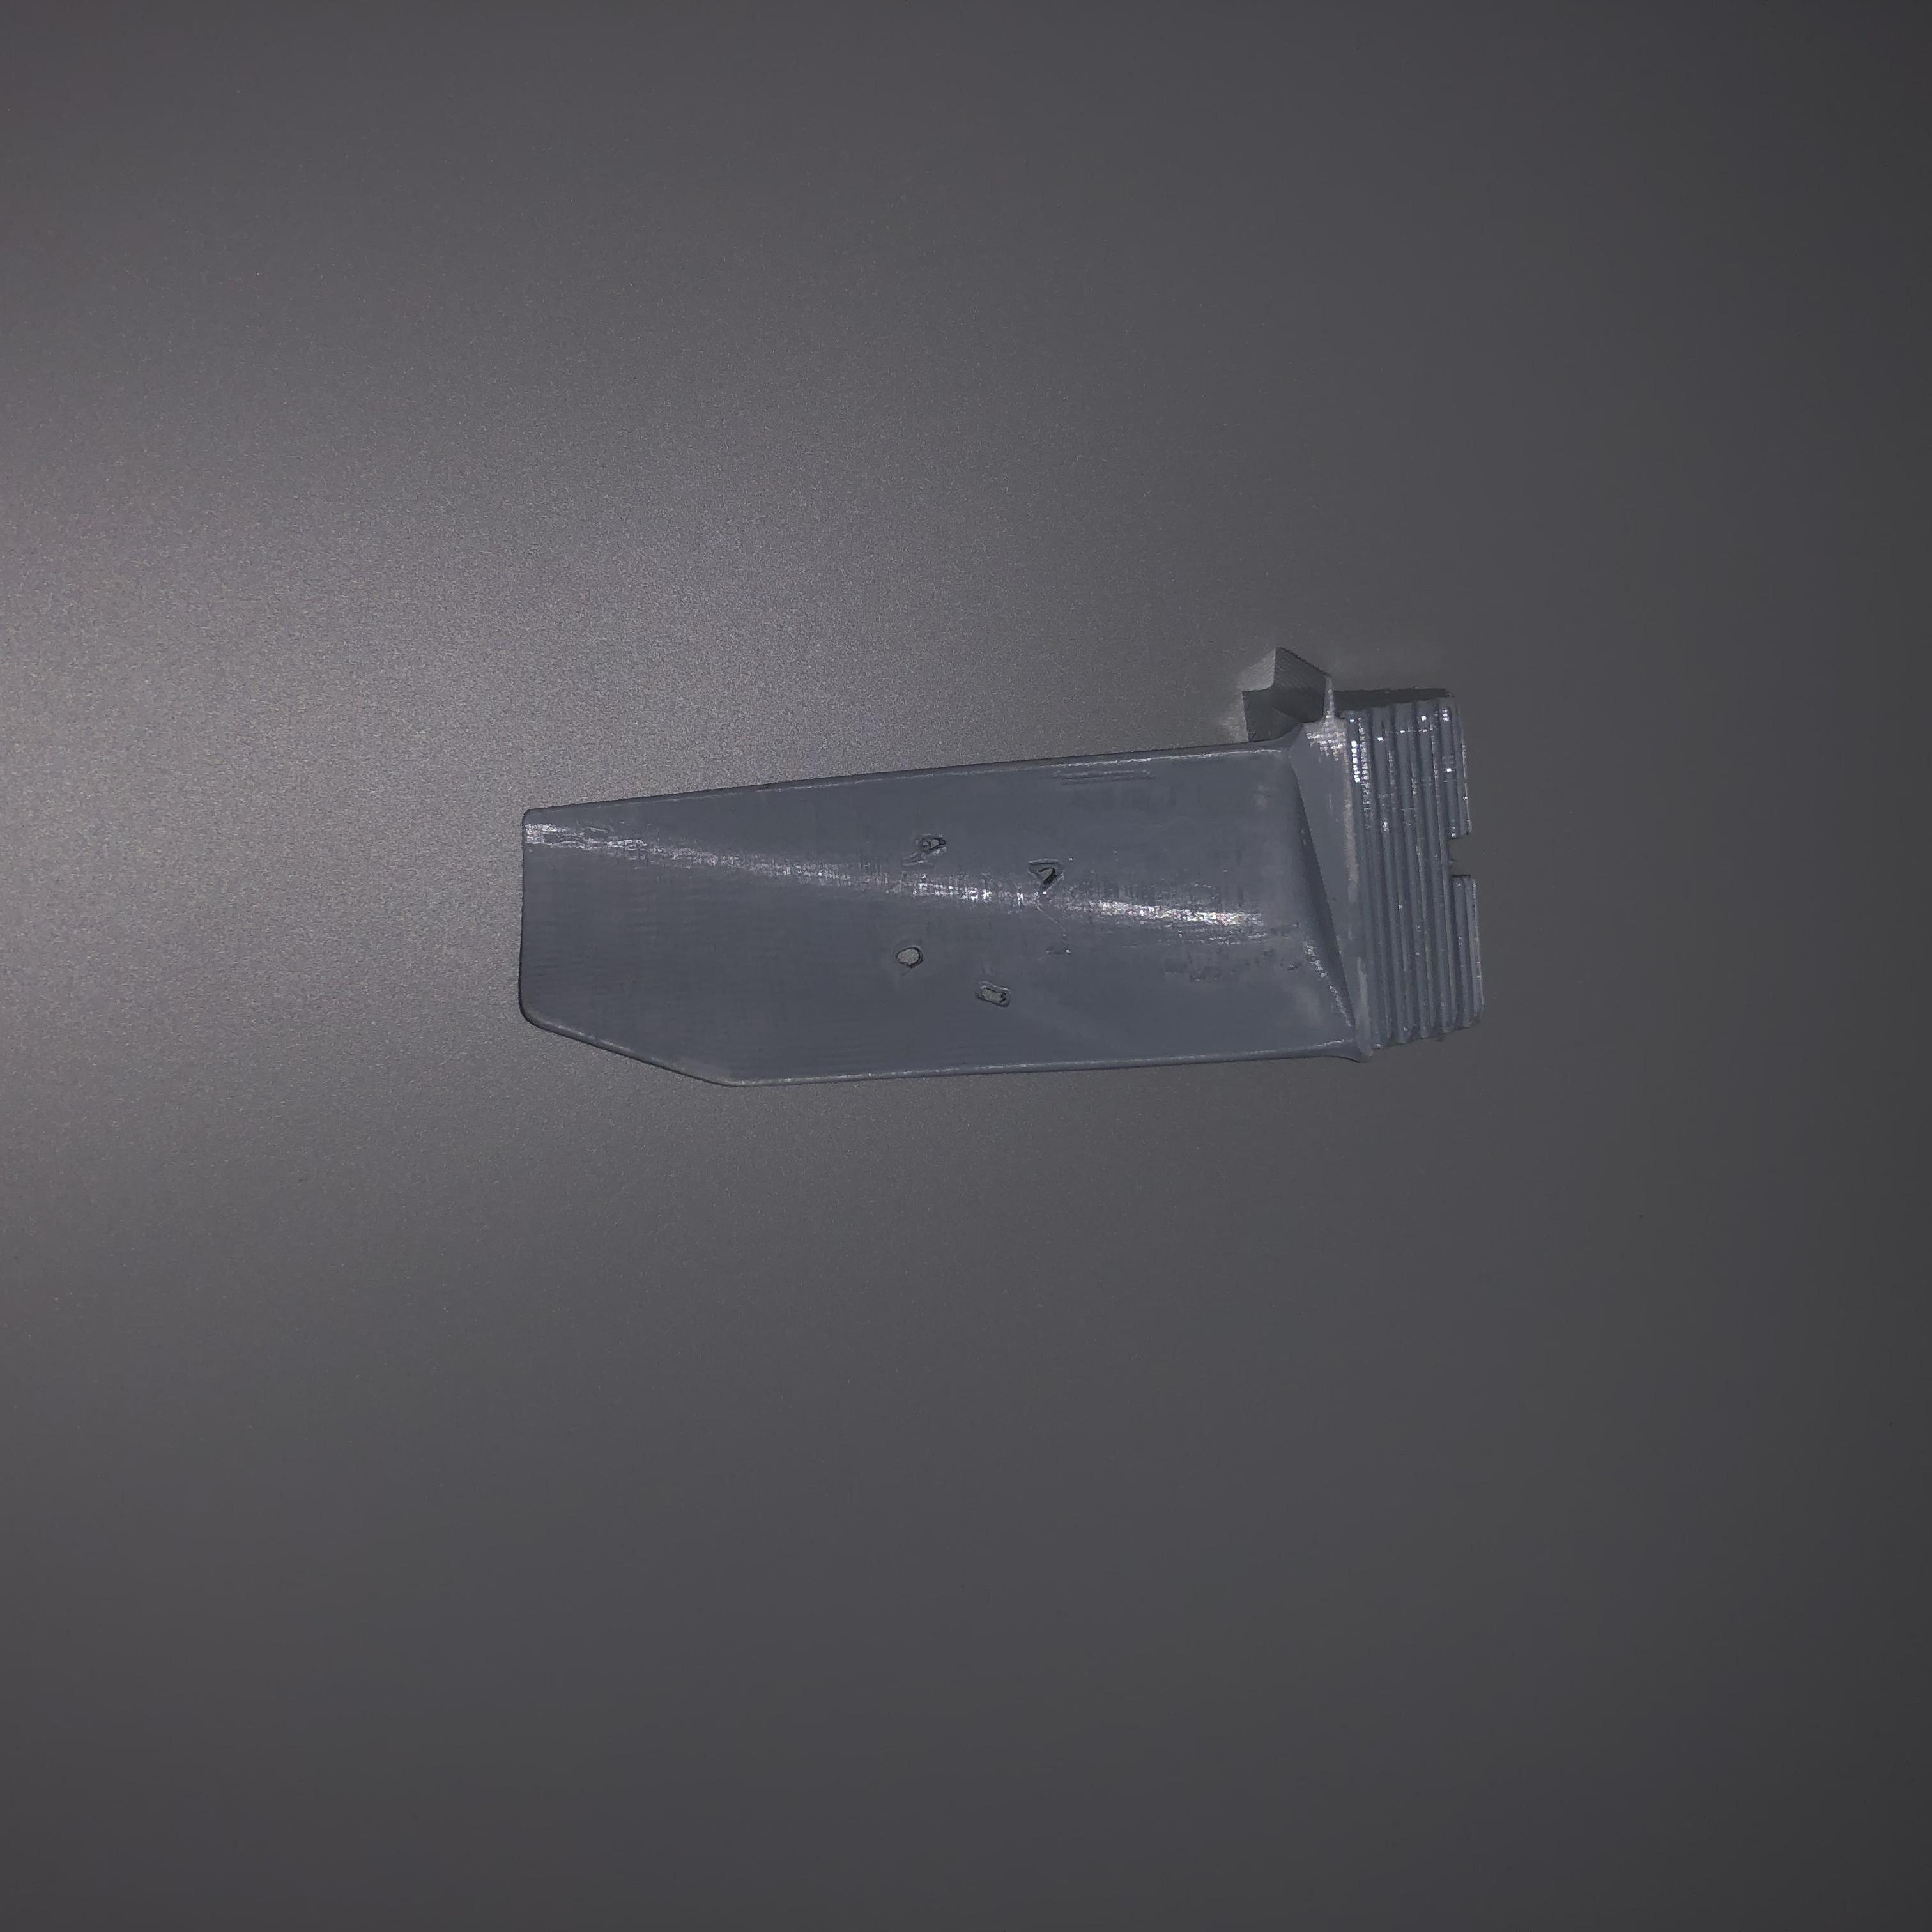breakdown: (893, 837, 1053, 1017)
